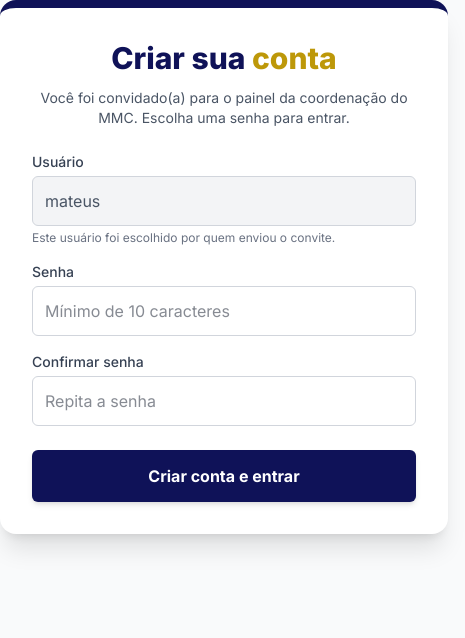
it: formulário do convite › o aviso do servidor aparece sem apagar o que foi digitado
Type "uma-senha-boa-123" into the password field with placeholder "Mínimo de 10 caracteres" at (224, 311), box x1=32 y1=286 x2=416 y2=336
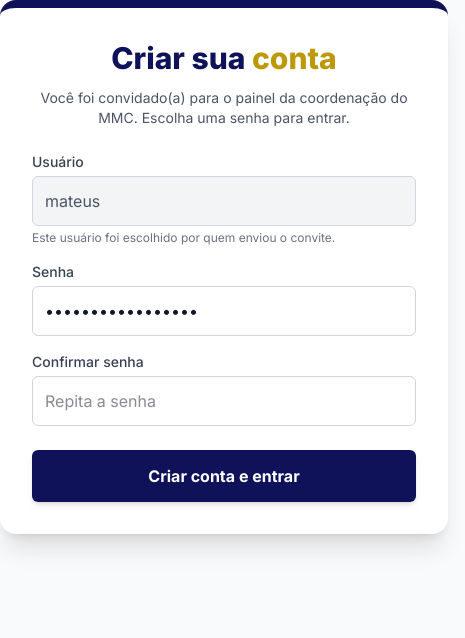
Type "uma-senha-boa-123" into the password field with placeholder "Repita a senha" at (224, 401), box x1=32 y1=376 x2=416 y2=426
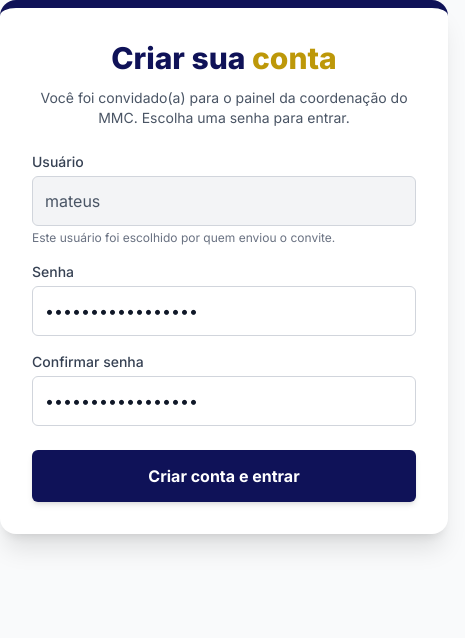
Submit the form, box x1=32 y1=152 x2=416 y2=502
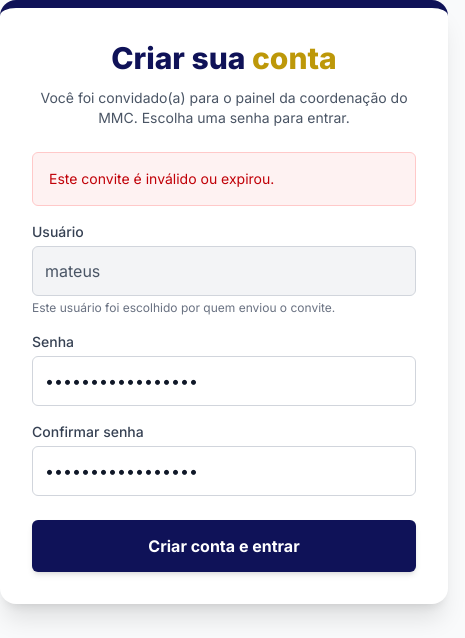
Check: the text "Este convite é inválido ou expirou." is shown, box x1=32 y1=152 x2=416 y2=206
